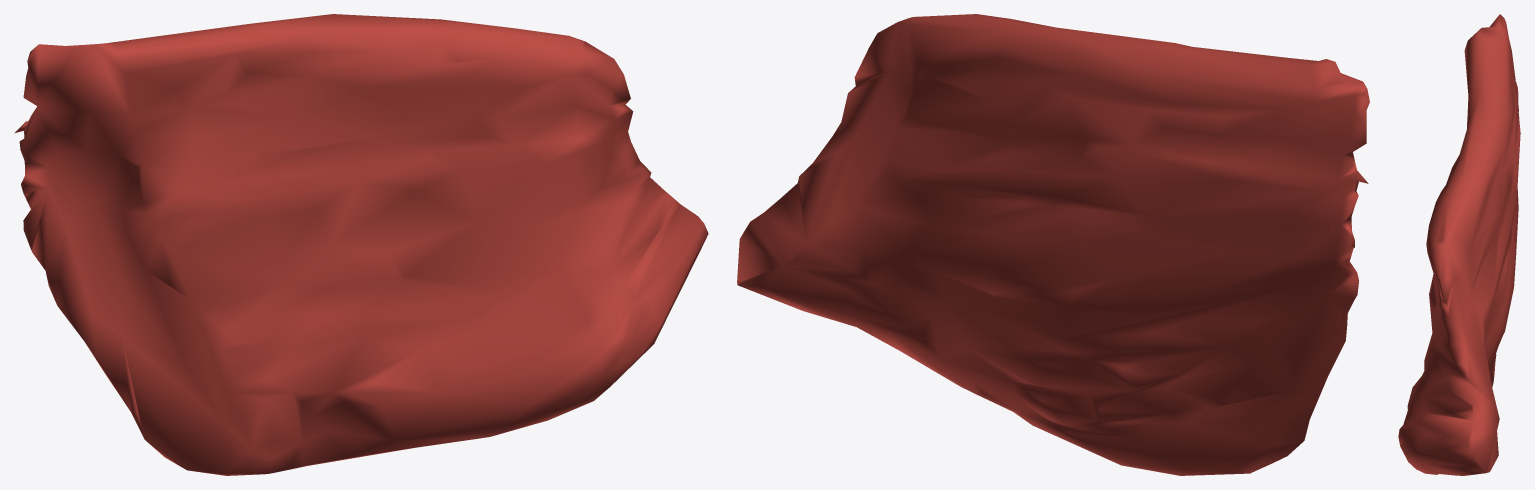
The model's file is musculos-quadratus-femoris-muscle-r.glb.
The picture shows the model from 3 angles, left to right: view 1: azimuth 30°, elevation 25°; view 2: azimuth 150°, elevation 25°; view 3: azimuth 270°, elevation 25°; orthographic projection. The views are drawn at different scales.
Parts seen in each view (by area): view 1: Quadratus femoris muscle.r; view 2: Quadratus femoris muscle.r; view 3: Quadratus femoris muscle.r.
Boxes of the visible parts, bbox=[...] form: Quadratus femoris muscle.r: bbox=[14, 14, 708, 475]; Quadratus femoris muscle.r: bbox=[737, 14, 1369, 475]; Quadratus femoris muscle.r: bbox=[1398, 14, 1520, 475].
Size of the model in its own units: 0.0685 by 0.0457 by 0.0161.
